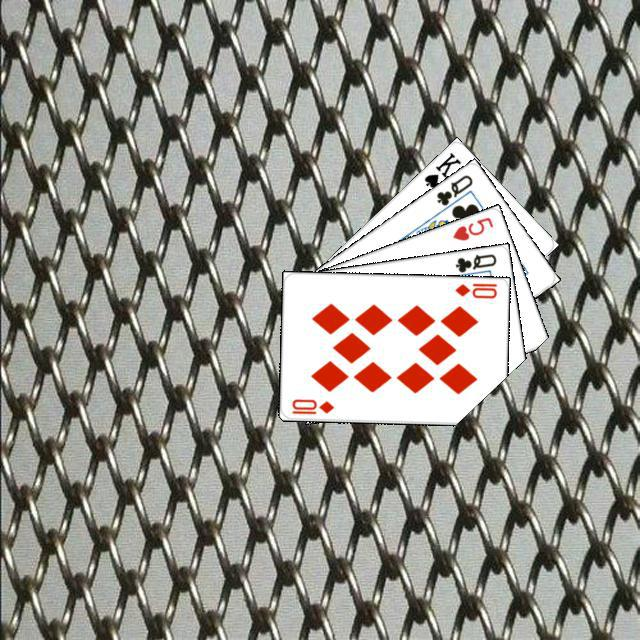10d: (450, 278, 499, 300), (287, 394, 335, 416)
5h: (447, 212, 495, 242)
Ks: (419, 147, 463, 190)
Qc: (431, 170, 475, 215), (448, 249, 498, 279)
